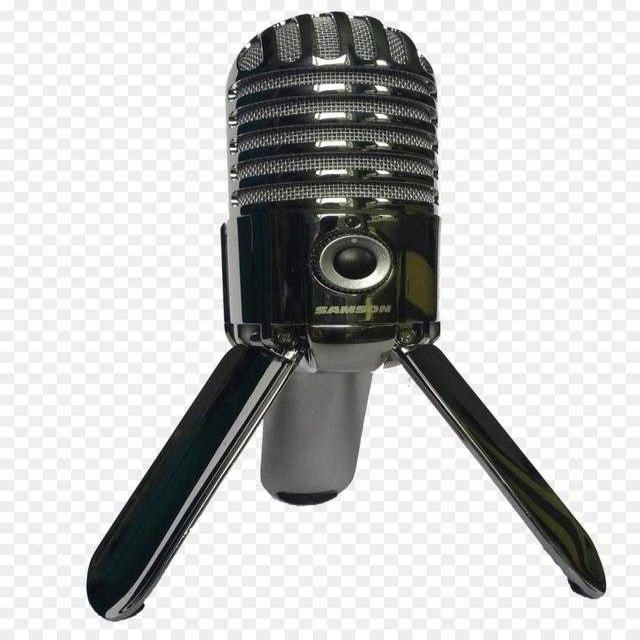microphone: (86, 9, 609, 618)
